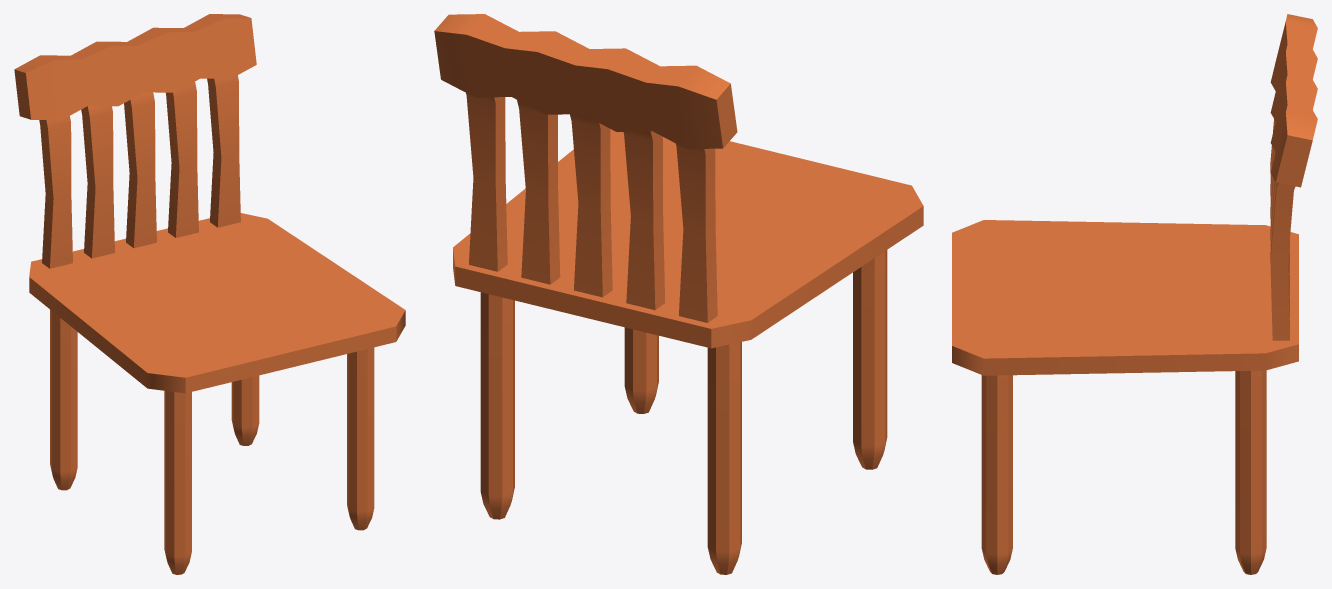
Rendered from chair_export.fbx.
3 views of the same model, side by side, from view 1: azimuth 30°, elevation 25°; view 2: azimuth 150°, elevation 25°; view 3: azimuth 270°, elevation 25° (orthographic). The views are drawn at different scales.
Visible parts, largest first — view 1: ChairSeat, ChairBackTop, ChairLeg2, ChairLeg5, ChairLeg3, ChairBack2, ChairBack3, ChairBack1, ChairBack4, ChairBack5, ChairLeg4; view 2: ChairSeat, ChairBackTop, ChairLeg3, ChairLeg4, ChairLeg2, ChairBack3, ChairBack2, ChairBack5, ChairBack1, ChairBack4, ChairLeg5; view 3: ChairSeat, ChairBackTop, ChairLeg4, ChairLeg5, ChairBack5.
Part boxes in pixels (left/top/right/bottom): ChairSeat: left=29, top=213, right=405, bottom=393; ChairBackTop: left=14, top=14, right=256, bottom=120; ChairLeg2: left=164, top=390, right=191, bottom=574; ChairLeg5: left=347, top=347, right=374, bottom=530; ChairLeg3: left=50, top=310, right=77, bottom=490; ChairBack2: left=81, top=106, right=114, bottom=258; ChairBack3: left=124, top=92, right=156, bottom=248; ChairBack1: left=39, top=116, right=72, bottom=268; ChairBack4: left=166, top=81, right=198, bottom=237; ChairBack5: left=207, top=75, right=240, bottom=227; ChairLeg4: left=231, top=375, right=259, bottom=445; ChairSeat: left=453, top=129, right=923, bottom=348; ChairBackTop: left=434, top=14, right=737, bottom=149; ChairLeg3: left=707, top=342, right=741, bottom=574; ChairLeg4: left=480, top=292, right=514, bottom=519; ChairLeg2: left=853, top=250, right=887, bottom=469; ChairBack3: left=570, top=114, right=612, bottom=297; ChairBack2: left=623, top=131, right=665, bottom=310; ChairBack5: left=466, top=93, right=507, bottom=271; ChairBack1: left=675, top=143, right=717, bottom=322; ChairBack4: left=517, top=100, right=560, bottom=284; ChairLeg5: left=624, top=327, right=658, bottom=413; ChairSeat: left=952, top=220, right=1298, bottom=375; ChairBackTop: left=1270, top=14, right=1317, bottom=187; ChairLeg4: left=1235, top=370, right=1266, bottom=574; ChairLeg5: left=981, top=375, right=1012, bottom=574; ChairBack5: left=1270, top=182, right=1295, bottom=340.
Bounding box in the file's own units: 6.15 × 9.44 × 6.86.
